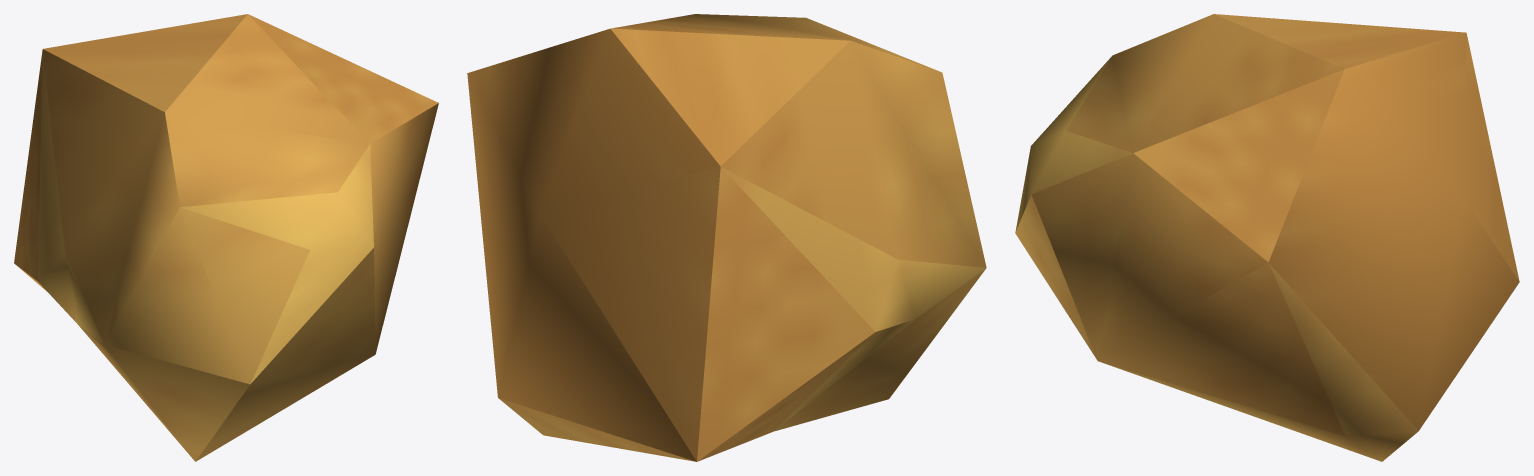
The model's file is gold-nugget-small.glb.
3 renders of one model, left to right at view 1: azimuth 30°, elevation 25°; view 2: azimuth 150°, elevation 25°; view 3: azimuth 270°, elevation 25°, orthographic. The views are drawn at different scales.
Parts seen in each view (by area): view 1: Gold_Nugget_Small; view 2: Gold_Nugget_Small; view 3: Gold_Nugget_Small.
Part boxes in pixels (x1,y1,x2,y2): Gold_Nugget_Small: (14,14,438,461); Gold_Nugget_Small: (467,14,986,461); Gold_Nugget_Small: (1015,14,1519,461).
Bounding box in the file's own units: 0.1411 × 0.1204 × 0.1461.
1 material, 1 textured.
